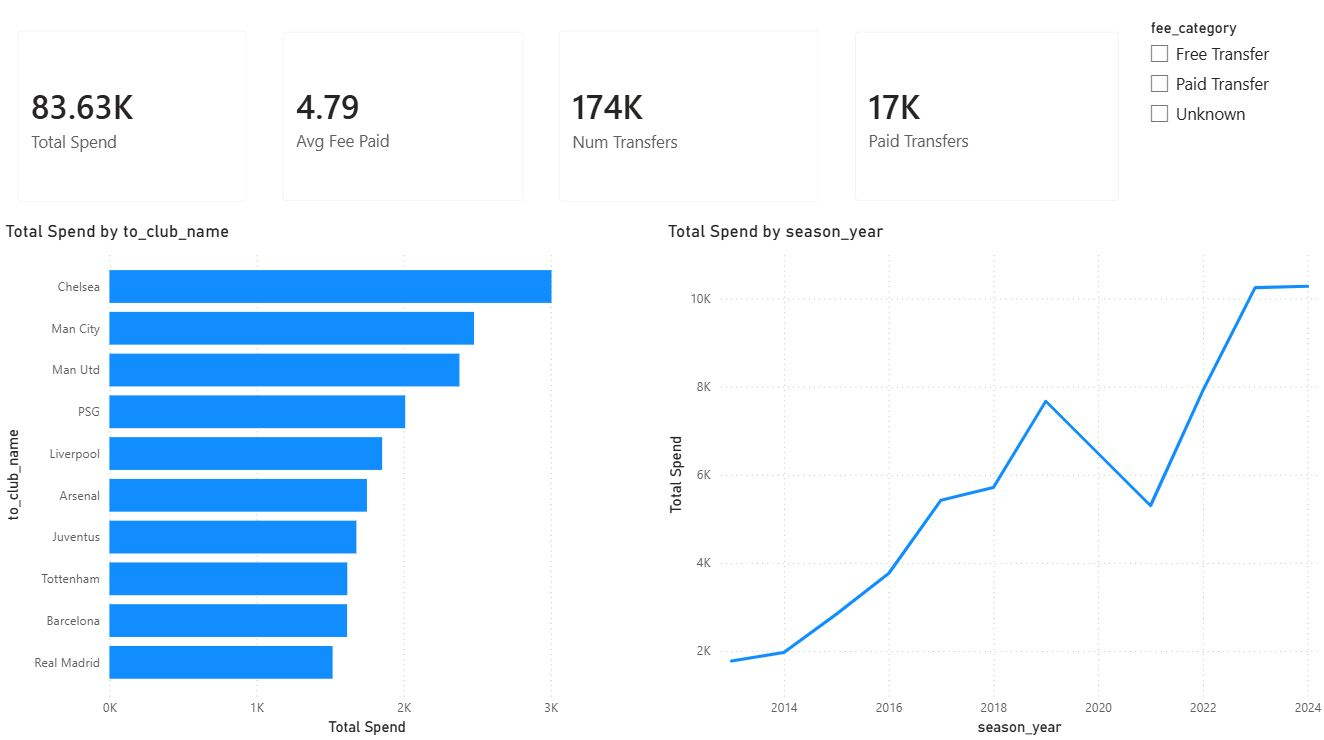

The dashboard page shown, as its layout file describes it:
{"tool":"powerbi","page":{"name":"Page 1","canvas":[1280,720],"ordinal":0},"visuals":[{"type":"cardVisual","fields":{"Data":["transfers_cleaned.Total Spend"]},"box":[0,17.8,255.2,200.3],"z":0},{"type":"cardVisual","fields":{"Data":["transfers_cleaned.Num Transfers"]},"box":[522.8,17.8,285.4,200.3],"z":1000},{"type":"cardVisual","fields":{"Data":["transfers_cleaned.Paid Transfers"]},"box":[808.2,19.2,289.5,199],"z":2000},{"type":"cardVisual","fields":{"Data":["transfers_cleaned.Avg Fee Paid"]},"box":[255.2,19.2,267.6,199],"z":3000},{"type":"clusteredBarChart","fields":{"Category":["transfers_cleaned.to_club_name"],"Y":["transfers_cleaned.Total Spend"]},"box":[0,218.2,614.8,502.2],"z":4000},{"type":"lineChart","fields":{"Category":["transfers_cleaned.season_year"],"Y":["transfers_cleaned.Total Spend"]},"box":[639.5,218.2,640.8,502.2],"z":5000},{"type":"slicer","fields":{"Values":["transfers_cleaned.fee_category"]},"box":[1097.8,19.2,182.5,199],"z":6000}]}

Visuals, with their boxes in screenshot pixels (x1, y1, x2, y2), scaled from the page's 1280x720 canvas onto the 1324x740 screenshot:
cardVisual - transfers_cleaned.Total Spend: (0, 18, 264, 224)
cardVisual - transfers_cleaned.Num Transfers: (541, 18, 836, 224)
cardVisual - transfers_cleaned.Paid Transfers: (836, 20, 1135, 224)
cardVisual - transfers_cleaned.Avg Fee Paid: (264, 20, 541, 224)
clusteredBarChart - transfers_cleaned.to_club_name x transfers_cleaned.Total Spend: (0, 224, 636, 739)
lineChart - transfers_cleaned.season_year x transfers_cleaned.Total Spend: (661, 224, 1323, 739)
slicer - transfers_cleaned.fee_category: (1136, 20, 1323, 224)
